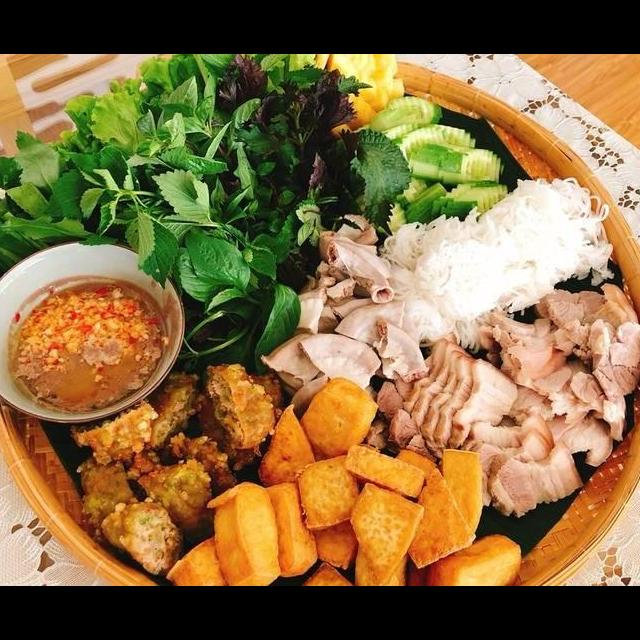bun: (354, 169, 622, 361)
bun dau: (0, 97, 640, 586)
cha com: (64, 357, 294, 578)
dau hu: (160, 473, 322, 586), (253, 395, 364, 533), (330, 434, 428, 570), (398, 440, 489, 578), (286, 371, 388, 463), (424, 525, 534, 586)
thit heo: (368, 335, 588, 518), (480, 275, 640, 467)
